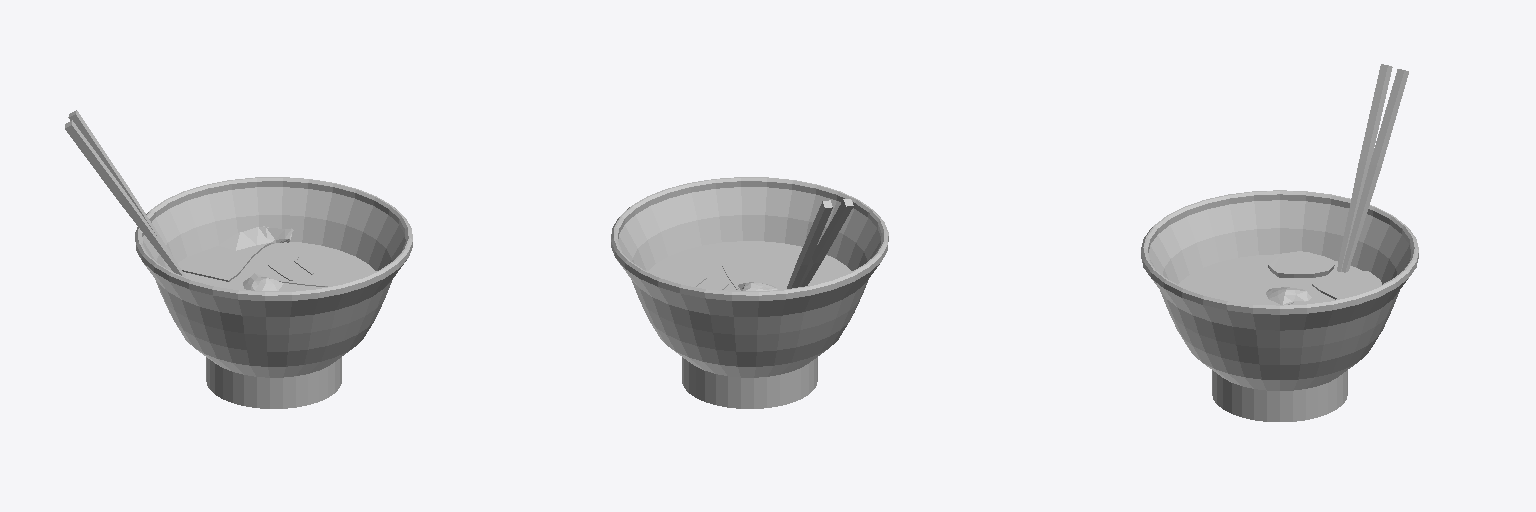
The model's file is Ramen.obj.
The picture shows the model from 3 angles: view 1: azimuth 30°, elevation 25°; view 2: azimuth 150°, elevation 25°; view 3: azimuth 270°, elevation 25°; orthographic projection.
Visible parts, largest first — view 1: ramen.001; view 2: ramen.001; view 3: ramen.001.
Boxes of the visible parts, box(x1,y1,x2,y2) form: ramen.001: box(65, 110, 412, 408); ramen.001: box(611, 177, 888, 408); ramen.001: box(1141, 64, 1418, 421).
Size of the model in its own units: 1.38 by 1.23 by 1.2.